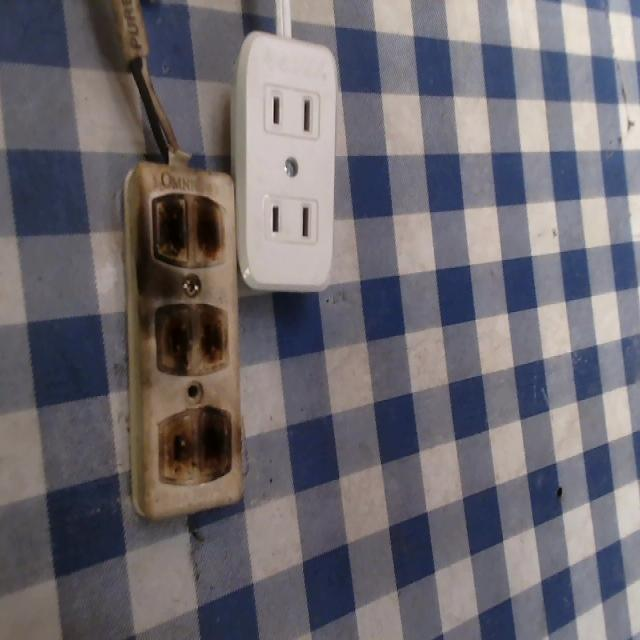-: (152, 406, 242, 494), (146, 184, 235, 272), (154, 296, 239, 376)
